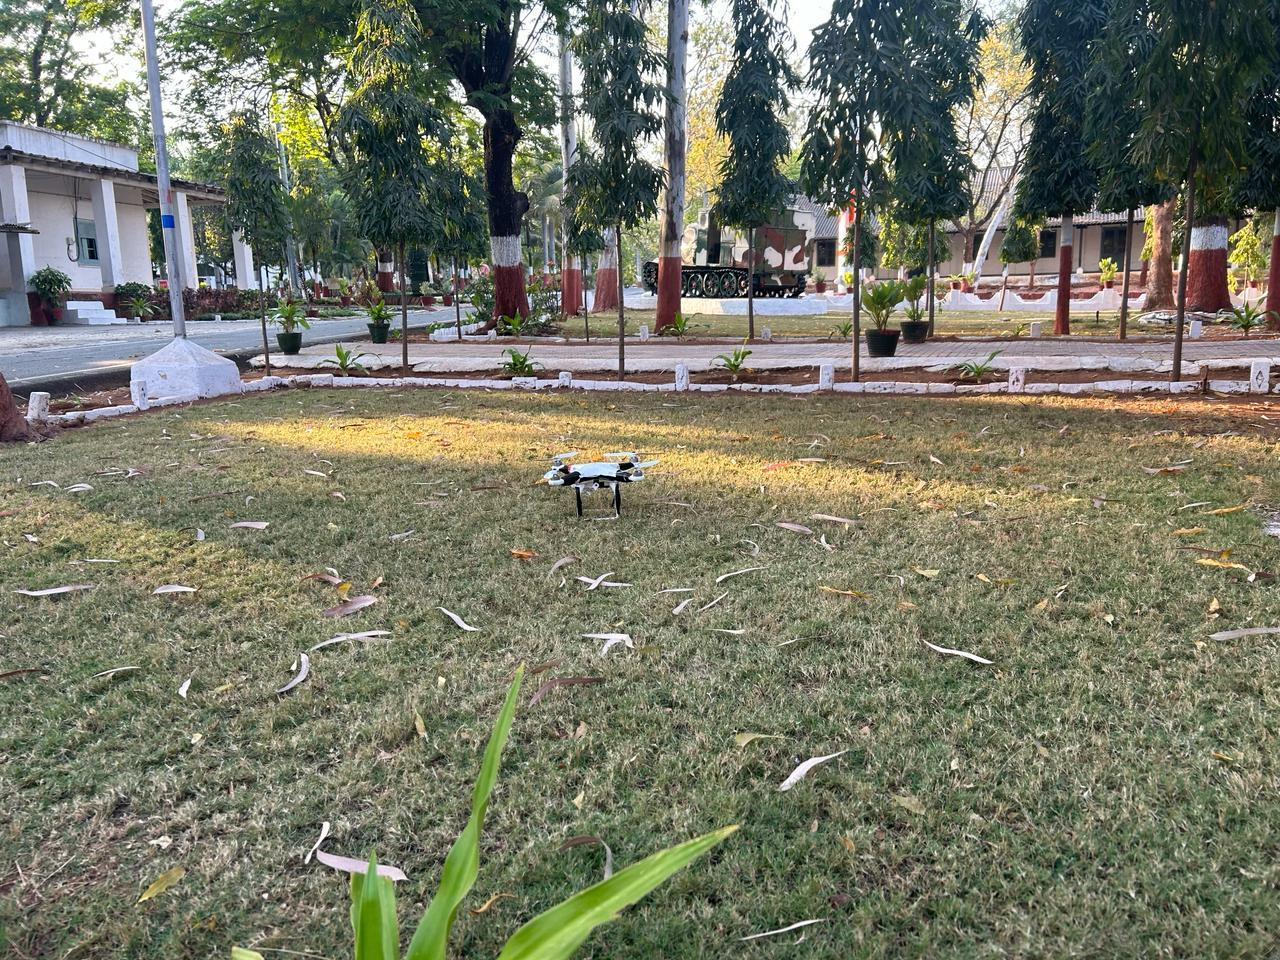drone: (516, 429, 690, 546)
